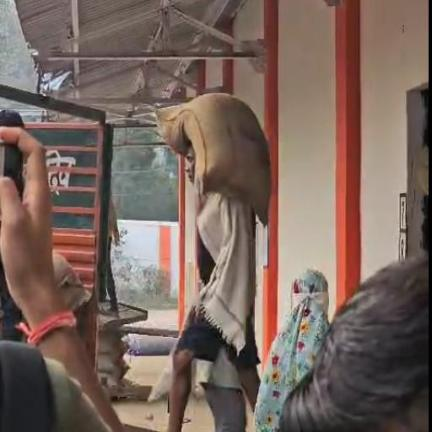Zone-Counting: (157, 93, 270, 431)
